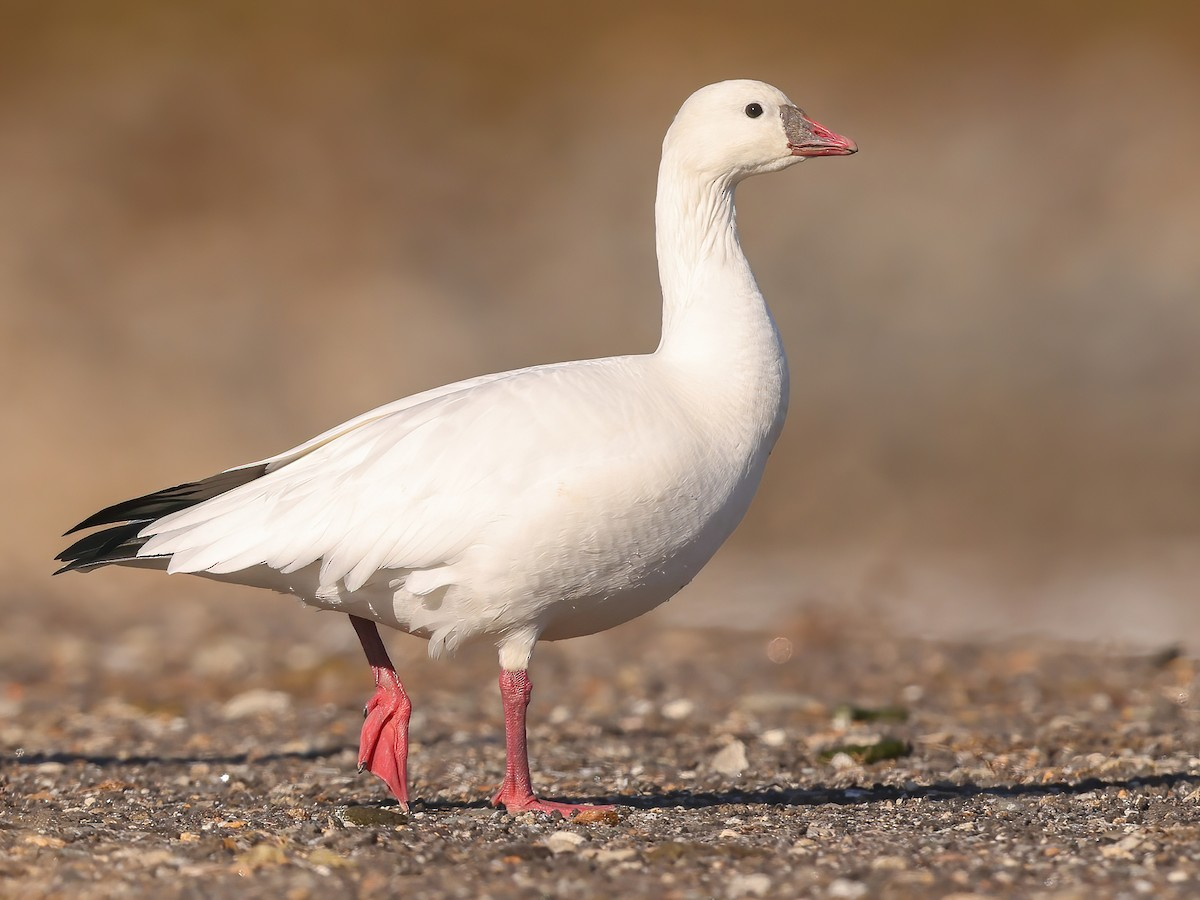goose: (62, 79, 860, 815)
